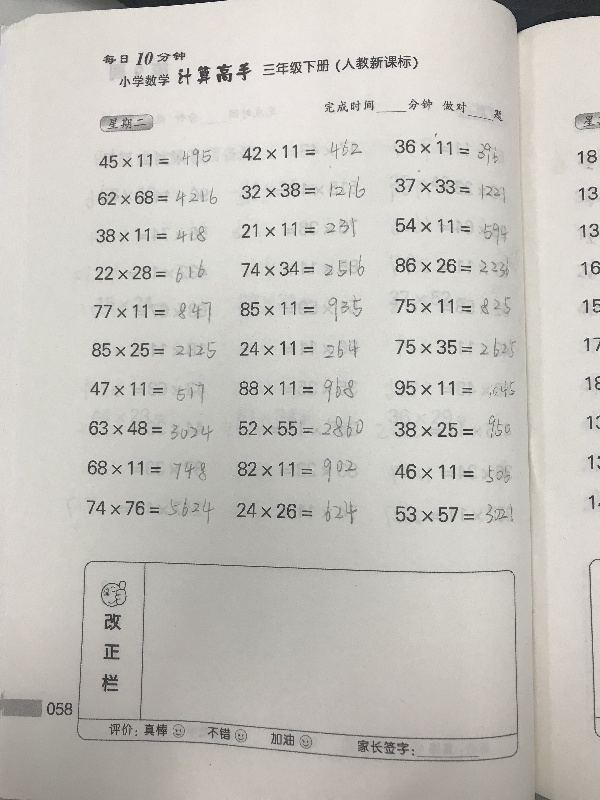equation: (83, 491, 217, 523), (235, 412, 368, 442), (233, 493, 360, 524), (234, 455, 360, 486), (241, 173, 368, 203), (237, 253, 368, 282), (235, 291, 366, 320), (390, 374, 521, 403), (235, 375, 357, 406), (242, 135, 365, 165), (391, 414, 518, 443), (391, 334, 520, 362), (391, 215, 509, 245), (391, 130, 501, 162), (392, 500, 517, 528), (83, 457, 210, 484), (236, 336, 361, 363), (84, 417, 216, 442), (88, 338, 220, 363), (86, 378, 208, 405), (90, 298, 216, 324), (392, 293, 515, 319), (392, 175, 510, 202), (391, 460, 513, 486), (95, 145, 213, 171), (94, 187, 222, 210), (391, 254, 512, 278), (91, 261, 207, 286), (238, 215, 358, 239), (92, 222, 209, 246)
